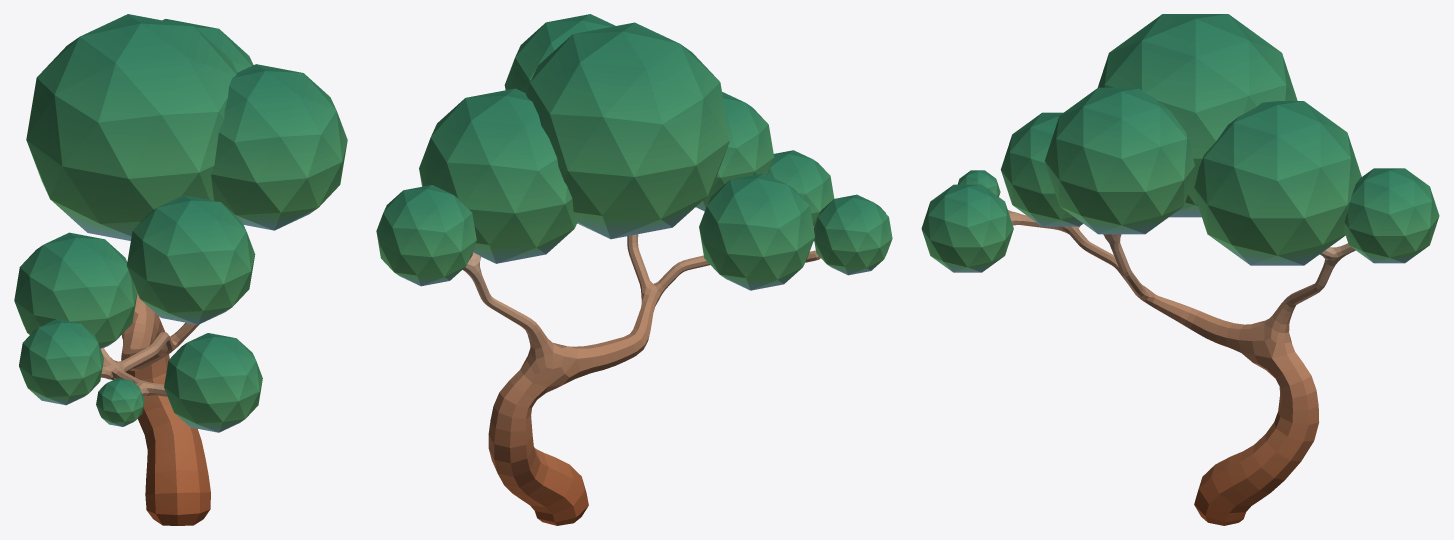
Rendered from round_tree.glb.
3 renders of one model, left to right at view 1: azimuth 30°, elevation 25°; view 2: azimuth 150°, elevation 25°; view 3: azimuth 270°, elevation 25°, orthographic. The views are drawn at different scales.
Visible parts, largest first — view 1: Icosphere.002, Icosphere.003, Icosphere.004, Cube, Icosphere.006, Icosphere.005, Icosphere.007, Icosphere.008, Icosphere.001; view 2: Icosphere.002, Icosphere.001, Cube, Icosphere.006, Icosphere, Icosphere.007, Icosphere.004, Icosphere.003, Icosphere.005; view 3: Icosphere.001, Icosphere.003, Cube, Icosphere.002, Icosphere, Icosphere.005, Icosphere.004, Icosphere.008.
Boxes of the visible parts, x1,y1,x2,y2 form: Icosphere.002: (26,14,237,240); Icosphere.003: (211,64,347,230); Icosphere.004: (126,195,255,324); Cube: (100,294,210,525); Icosphere.006: (14,232,137,348); Icosphere.005: (164,333,262,432); Icosphere.007: (19,319,103,405); Icosphere.008: (96,378,144,426); Icosphere.001: (162,19,253,72); Icosphere.002: (526,22,729,239); Icosphere.001: (419,88,577,263); Cube: (462,226,820,525); Icosphere.006: (699,173,814,290); Icosphere: (376,185,476,286); Icosphere.007: (813,194,892,275); Icosphere.004: (696,92,774,211); Icosphere.003: (504,14,615,92); Icosphere.005: (767,150,834,226); Icosphere.001: (1194,101,1361,265); Icosphere.003: (1045,87,1194,234); Cube: (1008,210,1355,525); Icosphere.002: (1097,14,1297,217); Icosphere: (1344,168,1439,263); Icosphere.005: (921,184,1013,272); Icosphere.004: (1000,112,1082,226); Icosphere.008: (957,170,1000,196).
Size of the model in its own units: 4.63 by 6.5 by 6.38.
Materials: 1 (1 with a texture image).
